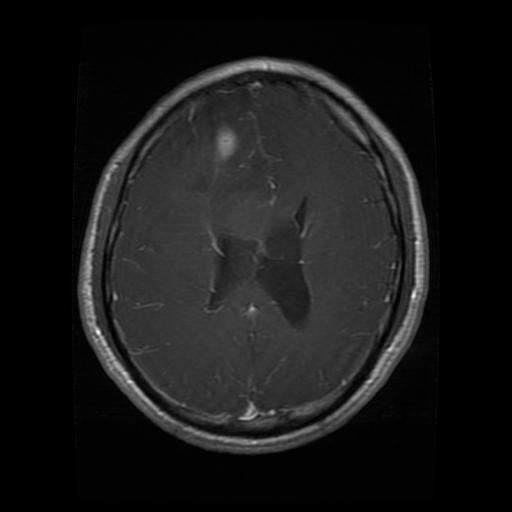Gliomia_tumour: (210, 204, 309, 328)
